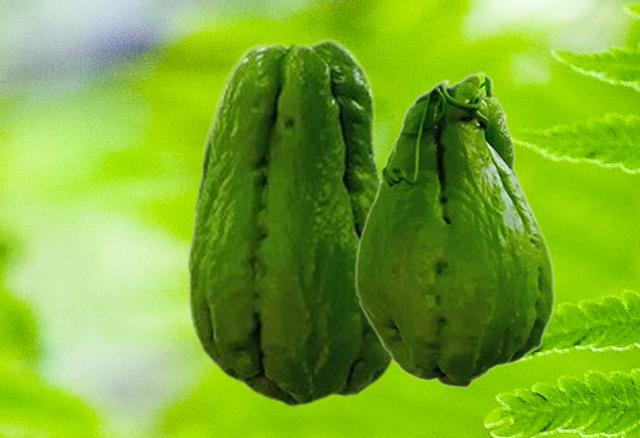sayote: (187, 37, 395, 407), (354, 71, 555, 388)
